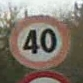limite 40: (7, 13, 72, 69)
